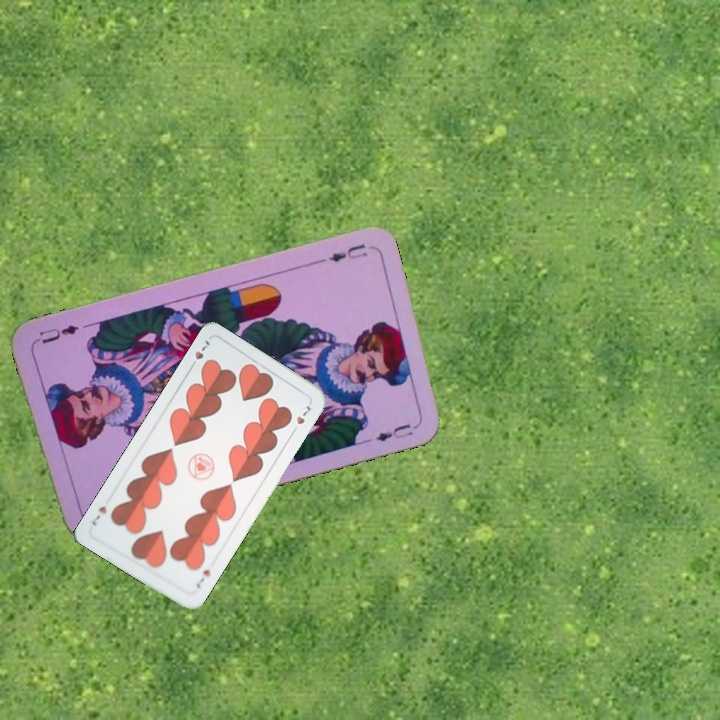EU: (324, 239, 370, 265)
H7: (185, 336, 212, 372), (191, 565, 213, 591)
